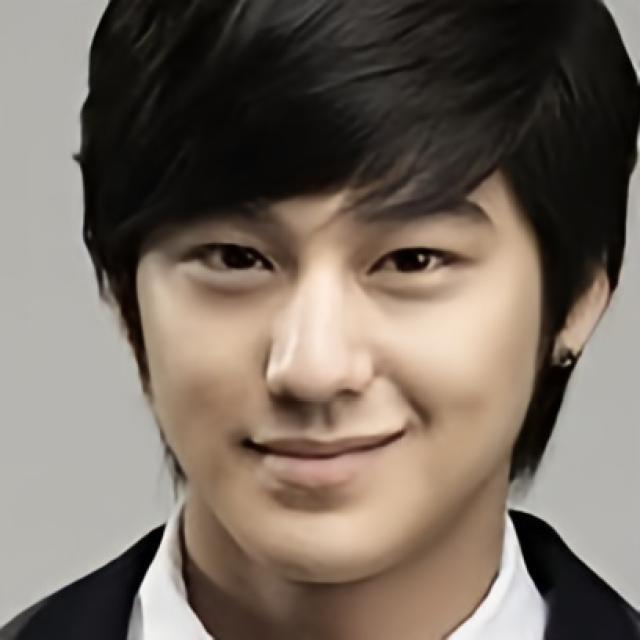content: (142, 84, 542, 576)
